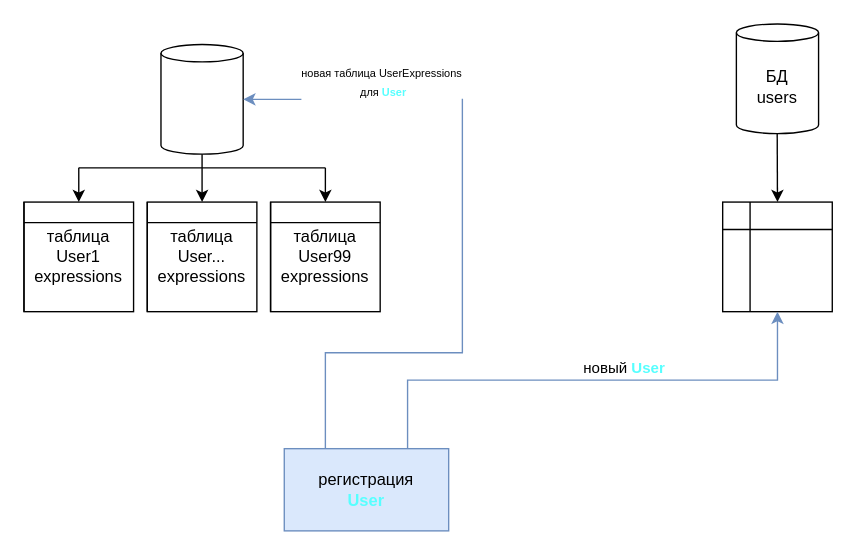
The diagram is 856 pixels wide and 555 high, and some of its shapes have lost their labels. Each missing label, with the centre of its shape:
"БД expressions" goes at point 201,98.
"таблица Users" goes at point 776,256.
